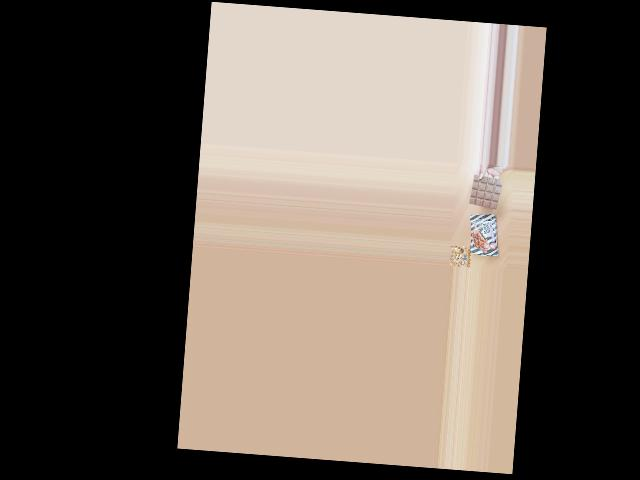chocolate: (468, 210, 500, 258)
